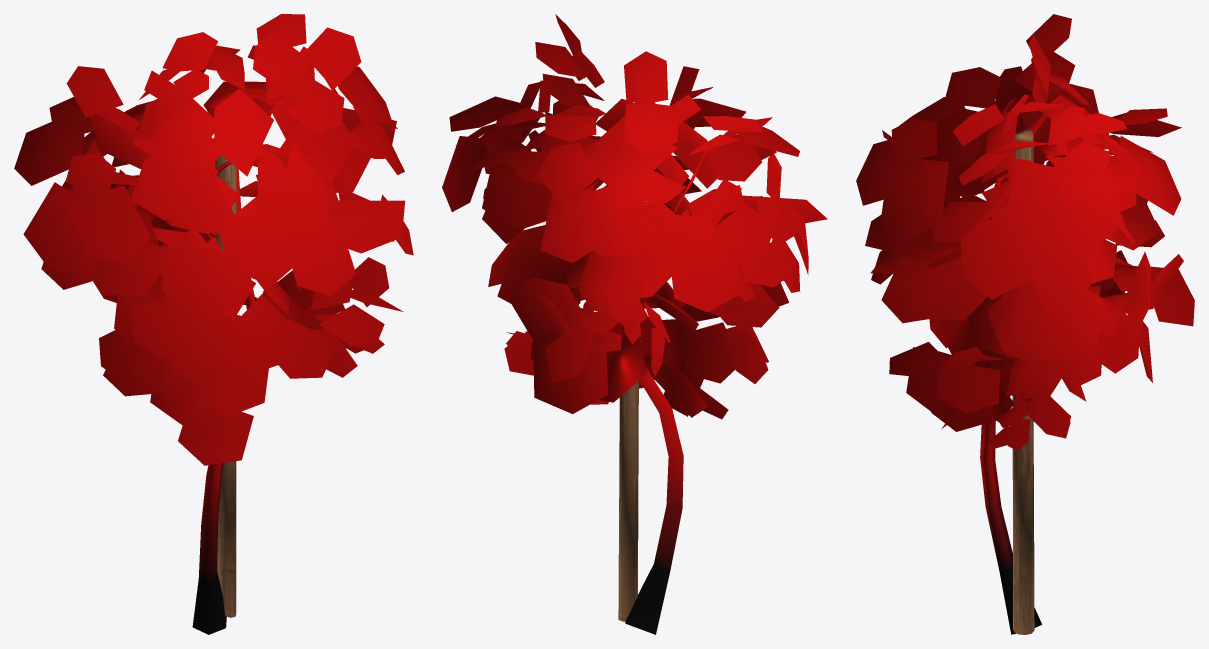
The model's file is SM_Farm_GrapevineYellow_01.fbx.
3 renders of one model, left to right at view 1: azimuth 30°, elevation 25°; view 2: azimuth 150°, elevation 25°; view 3: azimuth 270°, elevation 25°, orthographic. The views are drawn at different scales.
Visible parts, largest first — view 1: SM_Farm_GrapevineYellow_01_LOD0; view 2: SM_Farm_GrapevineYellow_01_LOD0; view 3: SM_Farm_GrapevineYellow_01_LOD0.
Boxes of the visible parts, left/top/right/bottom form: SM_Farm_GrapevineYellow_01_LOD0: left=14, top=14, right=413, bottom=634; SM_Farm_GrapevineYellow_01_LOD0: left=442, top=14, right=827, bottom=634; SM_Farm_GrapevineYellow_01_LOD0: left=856, top=14, right=1194, bottom=634.
Bounding box in the file's own units: 110 × 169 × 88.44.
